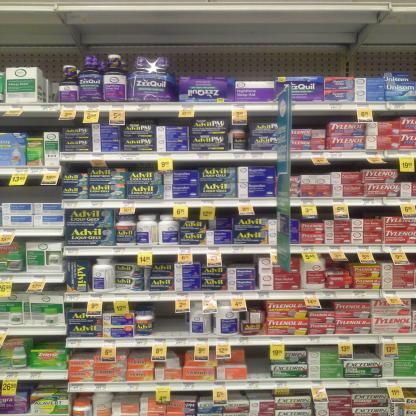Void: (0, 186, 67, 204), (154, 300, 181, 329), (252, 345, 273, 378), (298, 154, 329, 172), (292, 115, 324, 130), (352, 207, 394, 218)
